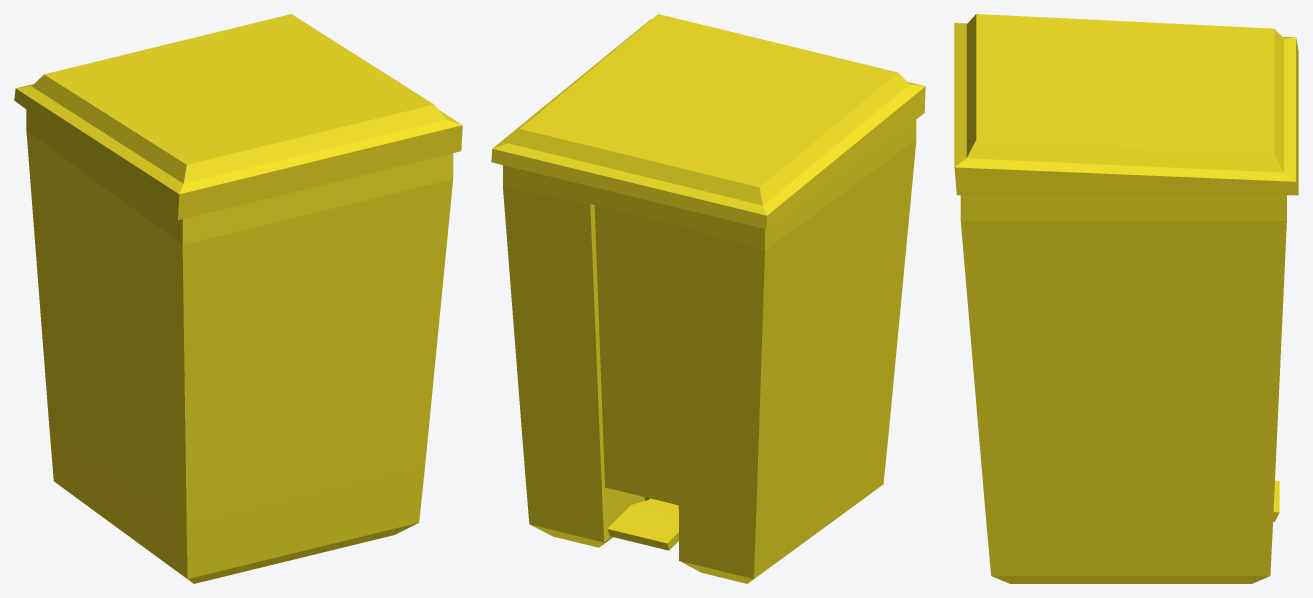
Rendered from Tempat Sampah.fbx.
The picture shows the model from 3 angles, left to right: view 1: azimuth 30°, elevation 25°; view 2: azimuth 150°, elevation 25°; view 3: azimuth 270°, elevation 25°; orthographic projection. The views are drawn at different scales.
Parts seen in each view (by area): view 1: Cube.069, Cube.071; view 2: Cube.069, Cube.071; view 3: Cube.069, Cube.071.
Part boxes in pixels (x1,y1,x2,y2): Cube.069: (26,109,453,583); Cube.071: (14,14,462,220); Cube.069: (503,119,916,583); Cube.071: (491,14,925,228); Cube.069: (960,195,1286,583); Cube.071: (954,14,1298,195).
Size of the model in its own units: 78.14 by 115 by 78.63.
Materials: 1 (1 with a texture image).
